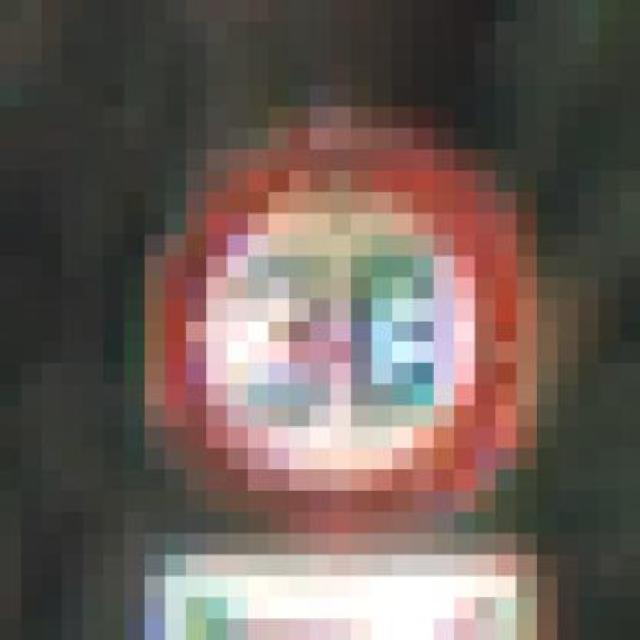Speed Limit 30 KMPh: (103, 106, 557, 534)
